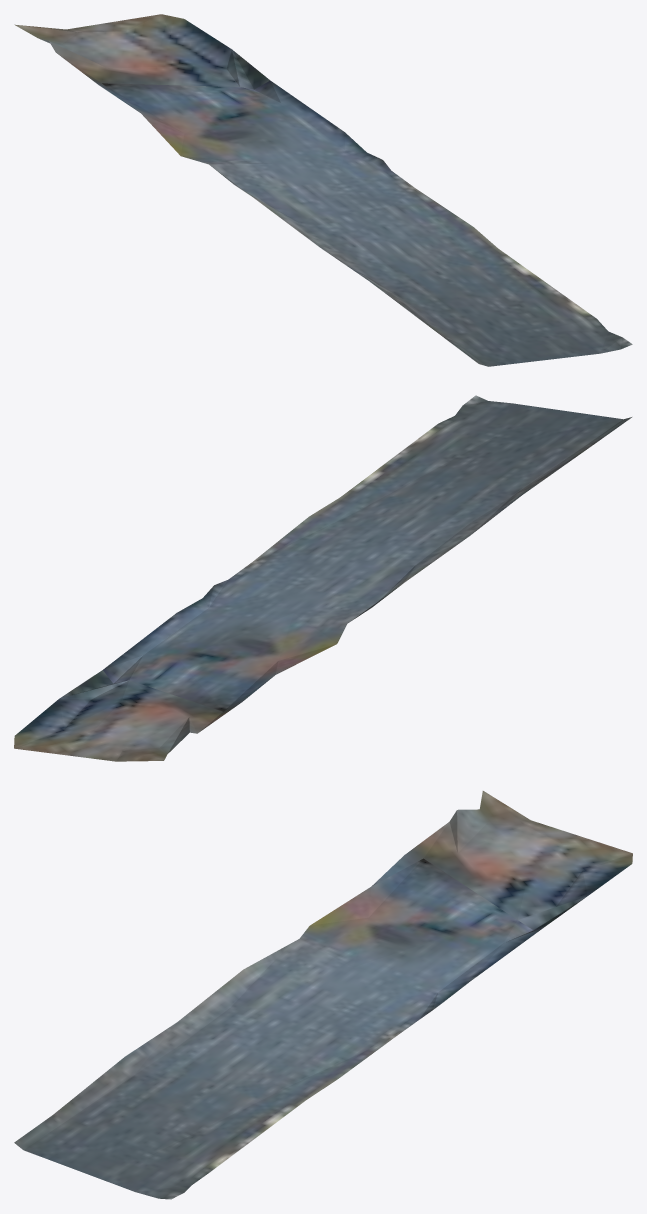
File: meshes_1-dynamic - BLK2GO-3630355-Scan 080 46.obj
The picture shows the model from 3 angles, top to bottom: view 1: azimuth 30°, elevation 25°; view 2: azimuth 150°, elevation 25°; view 3: azimuth 330°, elevation 25°; orthographic projection. The views are drawn at different scales.
Parts seen in each view (by area): view 1: 1-dynamic_-_BLK2GO-3630355-Scan_080_46_0; view 2: 1-dynamic_-_BLK2GO-3630355-Scan_080_46_0; view 3: 1-dynamic_-_BLK2GO-3630355-Scan_080_46_0.
Part boxes in pixels (x1=…): 1-dynamic_-_BLK2GO-3630355-Scan_080_46_0: x1=14, y1=14, x2=632, y2=366; 1-dynamic_-_BLK2GO-3630355-Scan_080_46_0: x1=14, y1=395, x2=631, y2=761; 1-dynamic_-_BLK2GO-3630355-Scan_080_46_0: x1=14, y1=791, x2=632, y2=1199.
Size of the model in its own units: 0.4053 by 0.0835 by 2.02.
1 material, 1 textured.
